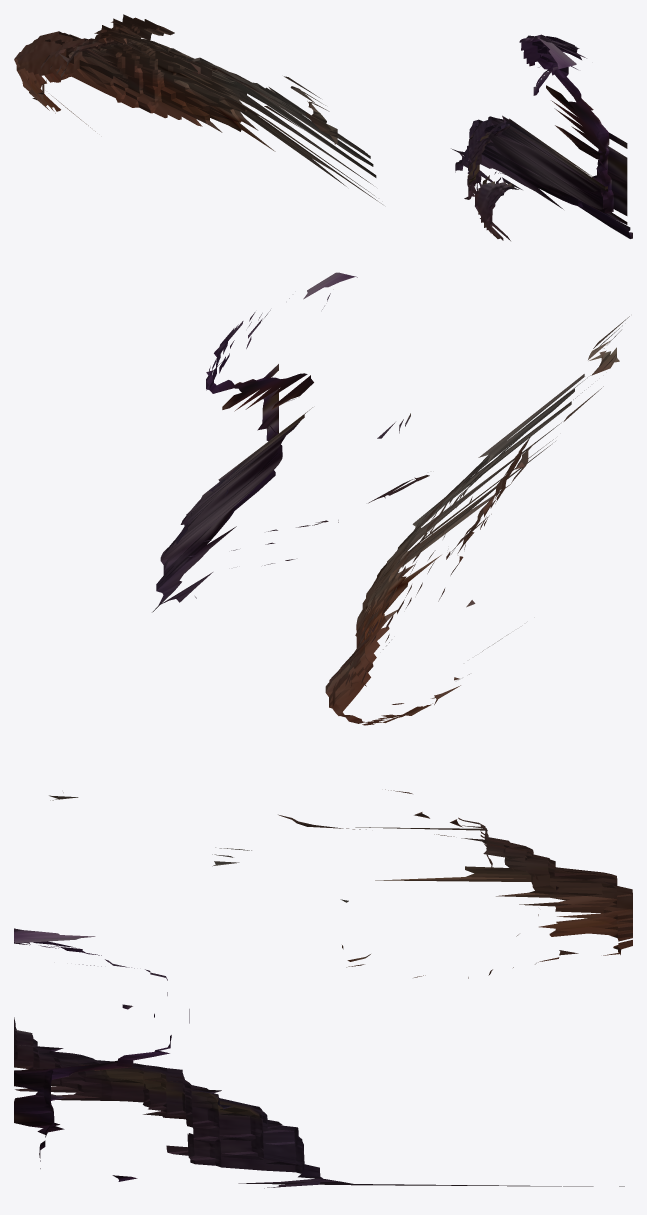
Rendered from frame_00289.glb.
3 renders of one model, top to bottom at view 1: azimuth 30°, elevation 25°; view 2: azimuth 150°, elevation 25°; view 3: azimuth 270°, elevation 25°, orthographic. The views are drawn at different scales.
Visible parts, largest first — view 1: geometry_0; view 2: geometry_0; view 3: geometry_0.
Part boxes in pixels (x1,y1,x2,y2): geometry_0: (14, 14, 632, 240); geometry_0: (152, 272, 629, 725); geometry_0: (14, 789, 632, 1188).
Size of the model in its own units: 0.1357 by 0.0753 by 0.16.
1 material, 1 textured.
